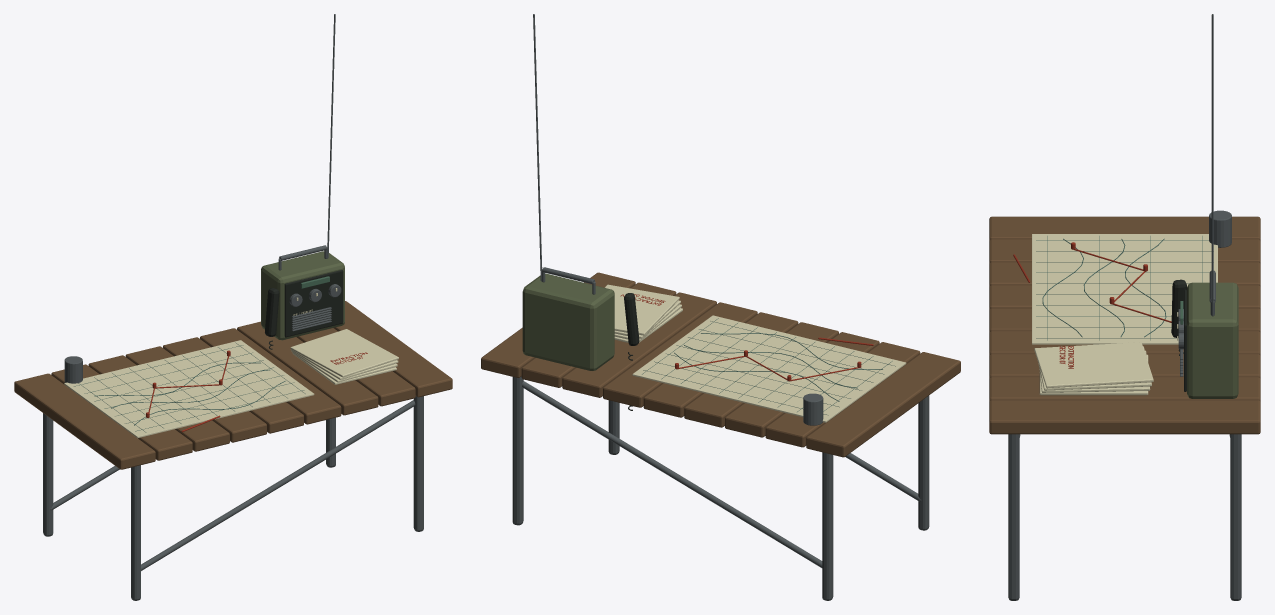
The model's file is IntelDesk.fbx.
3 renders of one model, left to right at view 1: azimuth 30°, elevation 25°; view 2: azimuth 150°, elevation 25°; view 3: azimuth 270°, elevation 25°, orthographic. The views are drawn at different scales.
Visible parts, largest first — view 1: IntelDesk; view 2: IntelDesk; view 3: IntelDesk.
Boxes of the visible parts, x1,y1,x2,y2 form: IntelDesk: [14, 14, 452, 600]; IntelDesk: [481, 14, 960, 600]; IntelDesk: [989, 14, 1260, 600].
Size of the model in its own units: 188 by 105 by 249.
